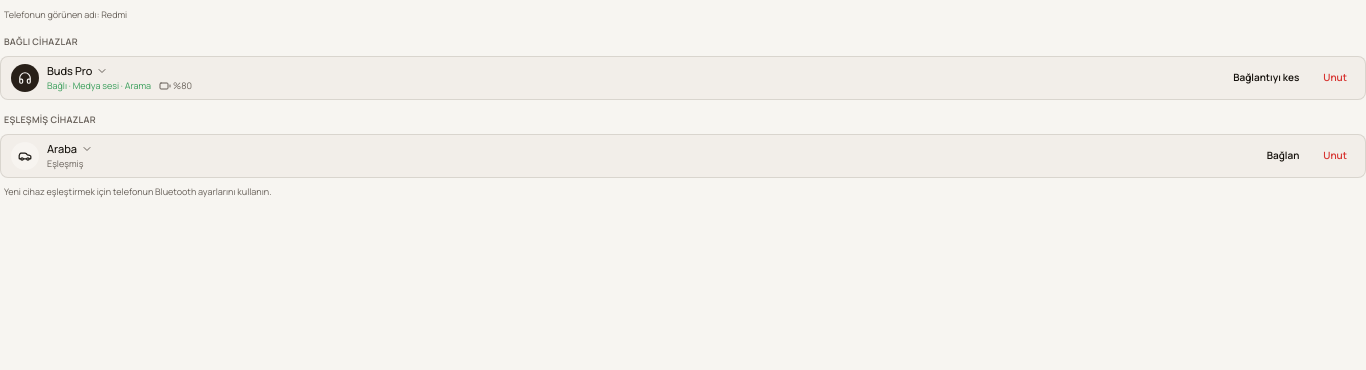
Scenario: BluetoothDetail › lists connected and paired devices with kind and battery
This screenshot has width=1366, height=370.
Expected: the text "Buds Pro" is shown, [47,62,92,79]
Expected: the element named "Pil yüzde 80" is shown, [159,79,192,92]
Click the button with aria-label "Buds Pro ayrıntıları" at (70, 70), box [47,62,1217,92]
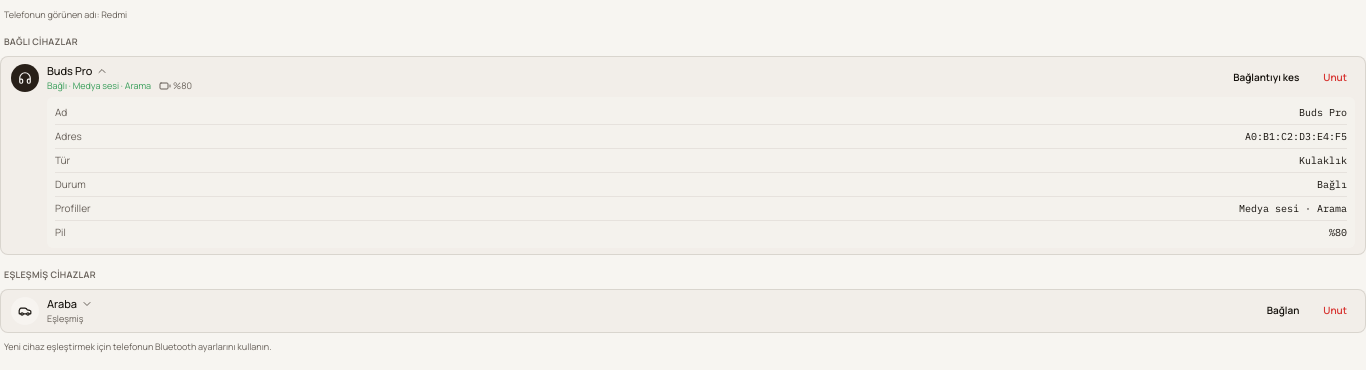
Expected: the text "A0:B1:C2:D3:E4:F5" is shown, [1245,128,1347,144]
Expected: the text "Kulaklık" is shown, [1299,152,1347,168]
Expected: the text "Medya sesi · Arama" is shown once, [1239,200,1347,216]
